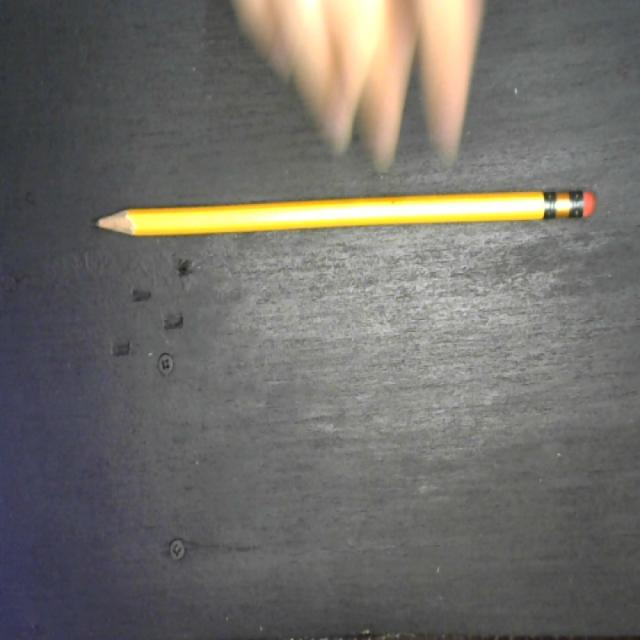biodegradable: (88, 188, 609, 242)
